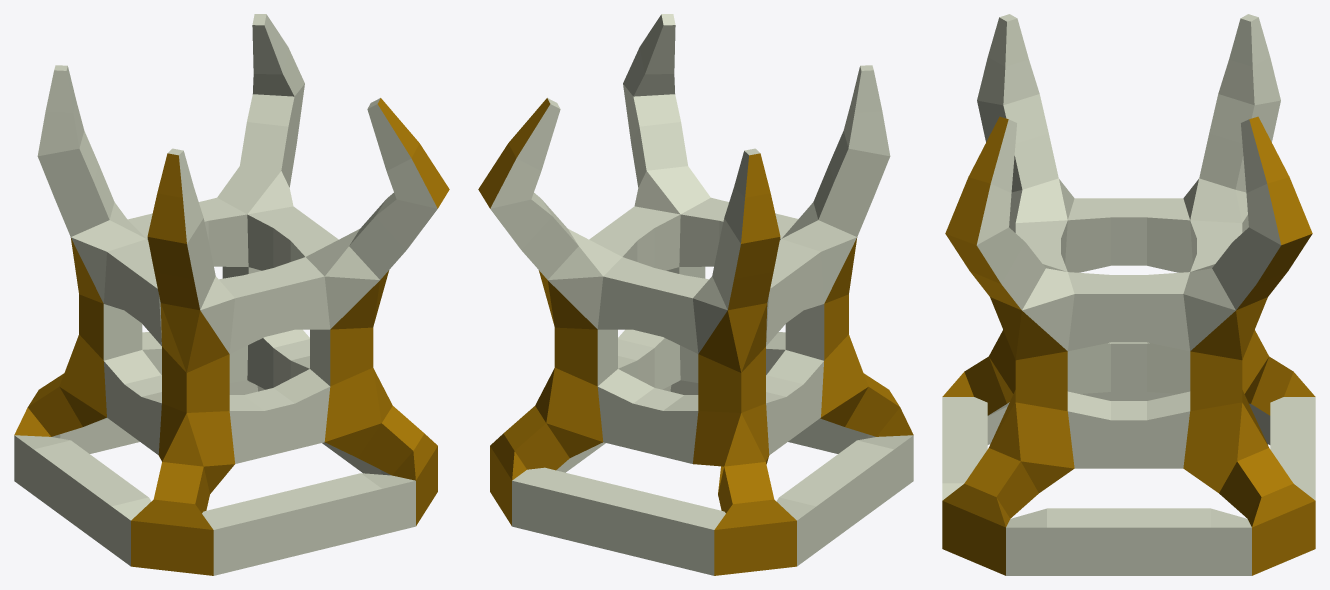
Rendered from Light_Tower.fbx.
The picture shows the model from 3 angles, left to right: view 1: azimuth 30°, elevation 25°; view 2: azimuth 150°, elevation 25°; view 3: azimuth 270°, elevation 25°; orthographic projection. The views are drawn at different scales.
Parts seen in each view (by area): view 1: LightTower; view 2: LightTower; view 3: LightTower.
Part boxes in pixels (<box>): LightTower: <box>14,14,449,575</box>; LightTower: <box>478,14,913,575</box>; LightTower: <box>942,14,1315,575</box>.
Bounding box in the file's own units: 506 × 506 × 640.
